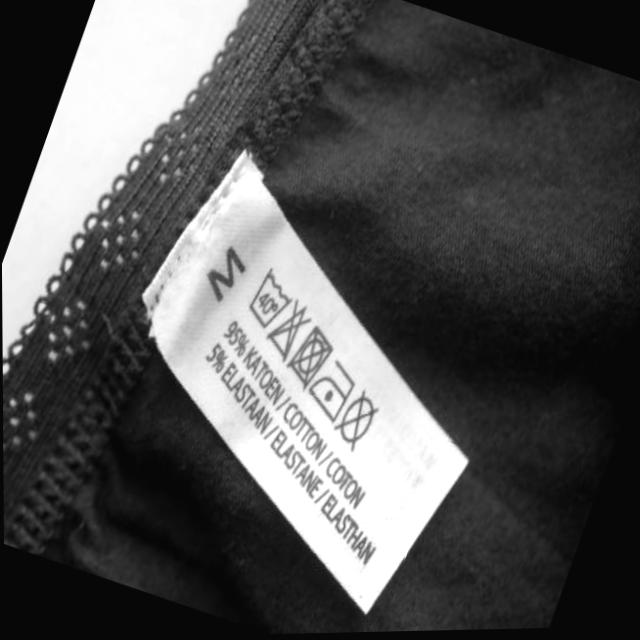40C: (249, 267, 290, 326)
DN_bleach: (269, 298, 310, 360)
DN_dry_clean: (336, 393, 383, 452)
DN_tumble_dry: (289, 321, 334, 387)
iron_low: (311, 361, 357, 419)
